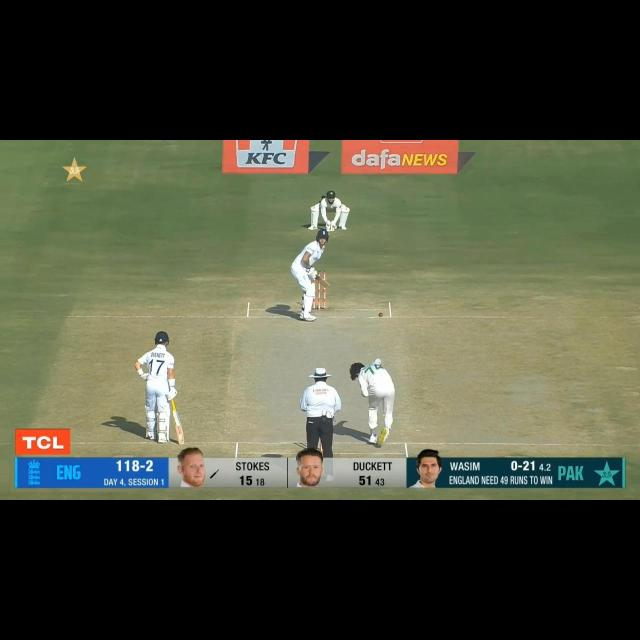bat: (170, 410, 188, 445), (315, 276, 331, 289)
toe: (177, 431, 186, 444), (322, 282, 330, 288)
